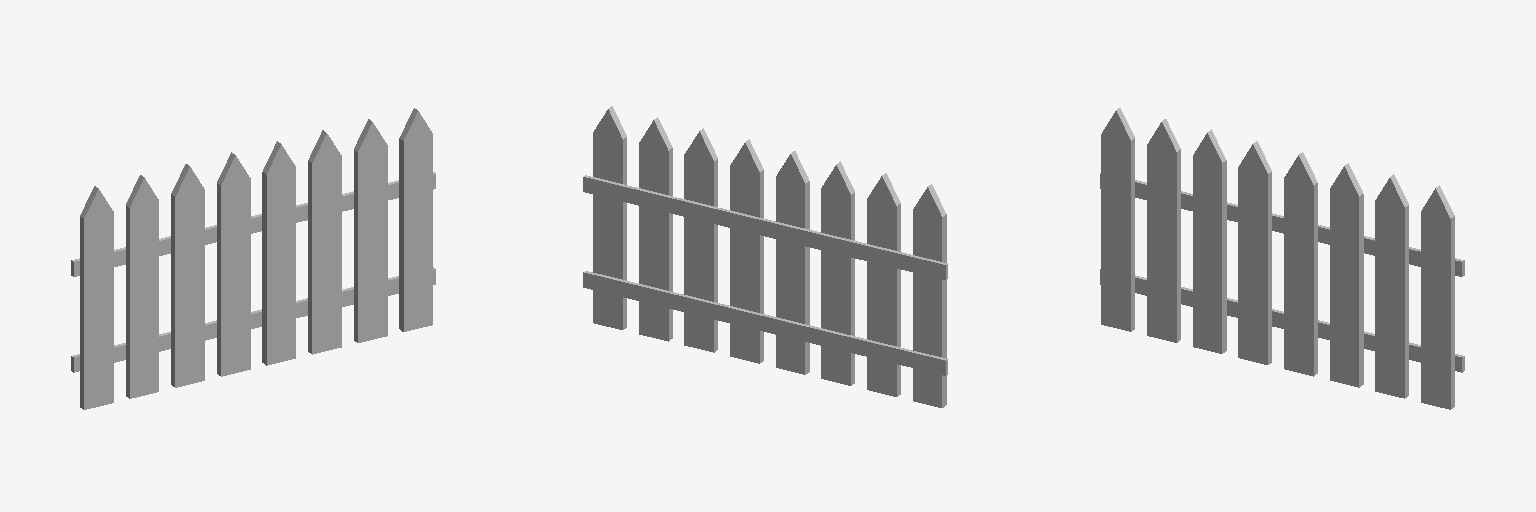
Rendered from picketfence2.obj.
The picture shows the model from 3 angles: view 1: azimuth 30°, elevation 25°; view 2: azimuth 150°, elevation 25°; view 3: azimuth 330°, elevation 25°; orthographic projection.
Visible parts, largest first — view 1: Mesh.002_Plane.008, Mesh.008_Plane.003, Mesh.005_Plane.007, Mesh.004_Plane.004, Mesh_Plane, Mesh.006_Plane.006, Mesh.003_Plane.005, Mesh.009_Plane.002, Mesh.007_Plane.001, Mesh.001_Plane.009; view 2: Mesh.007_Plane.001, Mesh.001_Plane.009, Mesh.004_Plane.004, Mesh.008_Plane.003, Mesh.009_Plane.002, Mesh.002_Plane.008, Mesh_Plane, Mesh.005_Plane.007, Mesh.006_Plane.006, Mesh.003_Plane.005; view 3: Mesh.005_Plane.007, Mesh.002_Plane.008, Mesh.006_Plane.006, Mesh.004_Plane.004, Mesh.008_Plane.003, Mesh.003_Plane.005, Mesh_Plane, Mesh.009_Plane.002, Mesh.007_Plane.001, Mesh.001_Plane.009.
Boxes of the visible parts, x1,y1,x2,y2 form: Mesh.002_Plane.008: [262, 141, 295, 365]; Mesh.008_Plane.003: [217, 152, 250, 376]; Mesh.005_Plane.007: [308, 130, 341, 354]; Mesh.004_Plane.004: [171, 164, 204, 387]; Mesh_Plane: [80, 186, 113, 409]; Mesh.006_Plane.006: [399, 108, 432, 331]; Mesh.003_Plane.005: [354, 119, 387, 342]; Mesh.009_Plane.002: [126, 175, 158, 398]; Mesh.007_Plane.001: [71, 267, 435, 372]; Mesh.001_Plane.009: [71, 172, 435, 276]; Mesh.007_Plane.001: [583, 271, 947, 375]; Mesh.001_Plane.009: [583, 175, 947, 279]; Mesh.004_Plane.004: [821, 161, 854, 385]; Mesh.008_Plane.003: [776, 151, 809, 374]; Mesh.009_Plane.002: [867, 173, 900, 396]; Mesh.002_Plane.008: [730, 139, 763, 363]; Mesh_Plane: [913, 184, 946, 407]; Mesh.005_Plane.007: [684, 128, 717, 352]; Mesh.006_Plane.006: [593, 106, 626, 329]; Mesh.003_Plane.005: [639, 117, 672, 341]; Mesh.005_Plane.007: [1330, 163, 1363, 387]; Mesh.002_Plane.008: [1284, 152, 1317, 376]; Mesh.006_Plane.006: [1421, 185, 1454, 409]; Mesh.004_Plane.004: [1193, 129, 1226, 353]; Mesh.008_Plane.003: [1238, 141, 1271, 364]; Mesh.003_Plane.005: [1375, 174, 1408, 398]; Mesh_Plane: [1101, 108, 1134, 331]; Mesh.009_Plane.002: [1147, 119, 1180, 342]; Mesh.007_Plane.001: [1100, 269, 1464, 372]; Mesh.001_Plane.009: [1100, 173, 1464, 276].
Bounding box in the file's own units: 119 × 68.51 × 3.84.